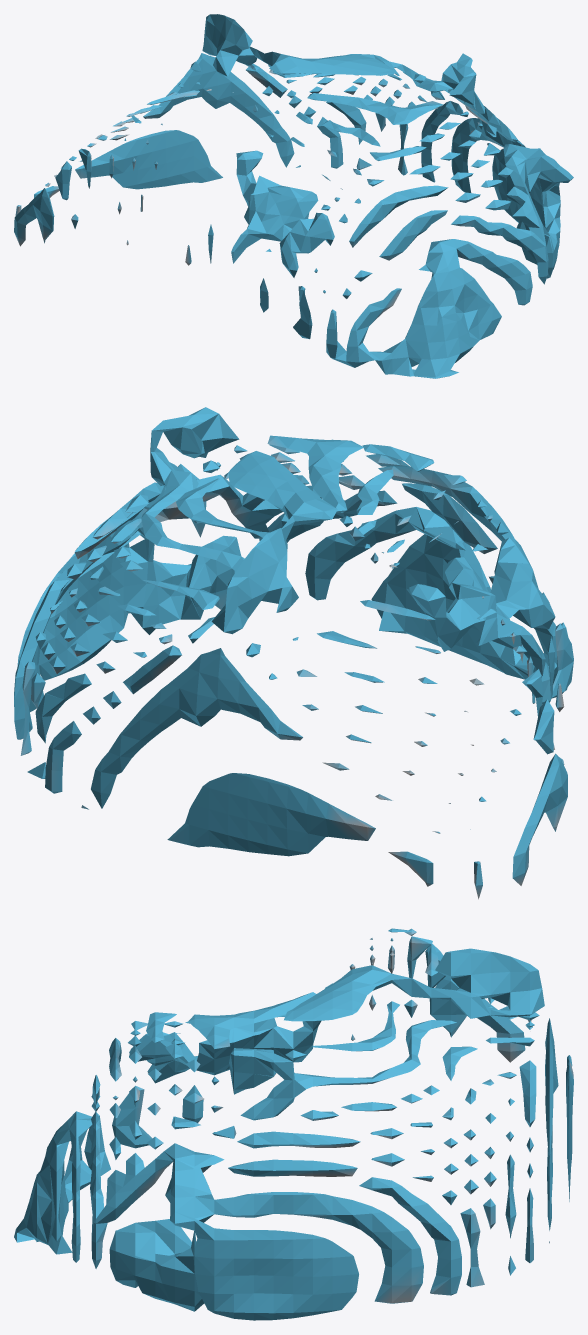
Rendered from parientallobe 1.fbx.
3 renders of one model, top to bottom at view 1: azimuth 30°, elevation 25°; view 2: azimuth 150°, elevation 25°; view 3: azimuth 270°, elevation 25°, orthographic. The views are drawn at different scales.
Visible parts, largest first — view 1: parietallobe; view 2: parietallobe; view 3: parietallobe.
Part boxes in pixels (x1,y1,x2,y2): parietallobe: [14, 14, 573, 378]; parietallobe: [14, 407, 573, 899]; parietallobe: [14, 928, 573, 1320].
Bounding box in the file's own units: 97.82 × 50.38 × 93.4.
